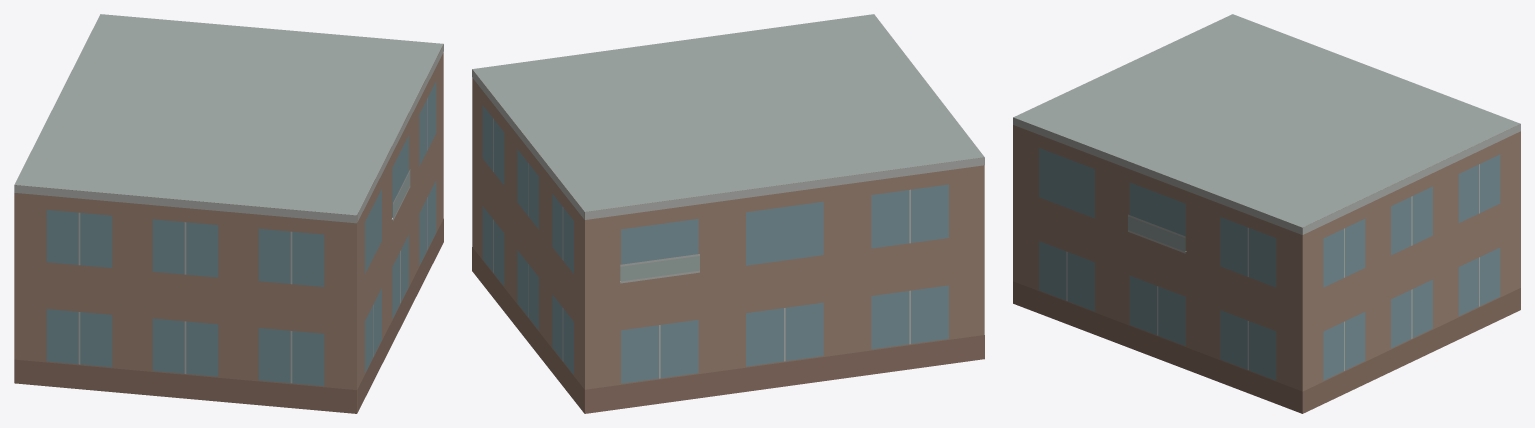
Rendered from survey-upis-32722637.glb.
3 renders of one model, left to right at view 1: azimuth 30°, elevation 25°; view 2: azimuth 150°, elevation 25°; view 3: azimuth 270°, elevation 25°, orthographic. The views are drawn at different scales.
Parts seen in each view (by area): view 1: survey-upis-32722637.tmp; view 2: survey-upis-32722637.tmp; view 3: survey-upis-32722637.tmp.
Part boxes in pixels (x1=…): survey-upis-32722637.tmp: x1=14, y1=14, x2=443, y2=413; survey-upis-32722637.tmp: x1=472, y1=14, x2=984, y2=413; survey-upis-32722637.tmp: x1=1013, y1=14, x2=1520, y2=413.
Bounding box in the file's own units: 15.02 × 6.1 × 15.08.
